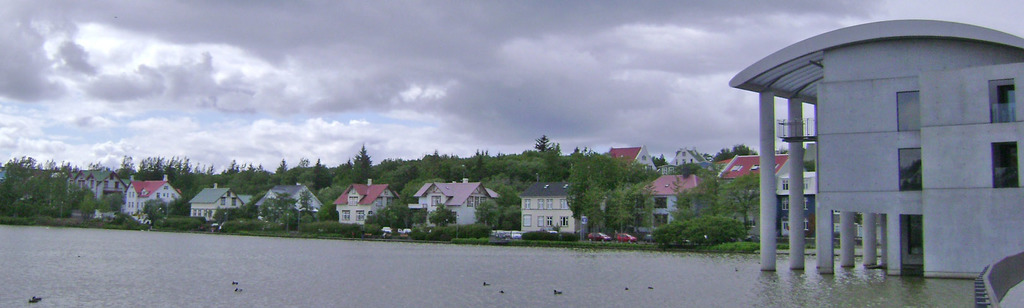Tree: (0, 132, 763, 245), (351, 142, 373, 174)
